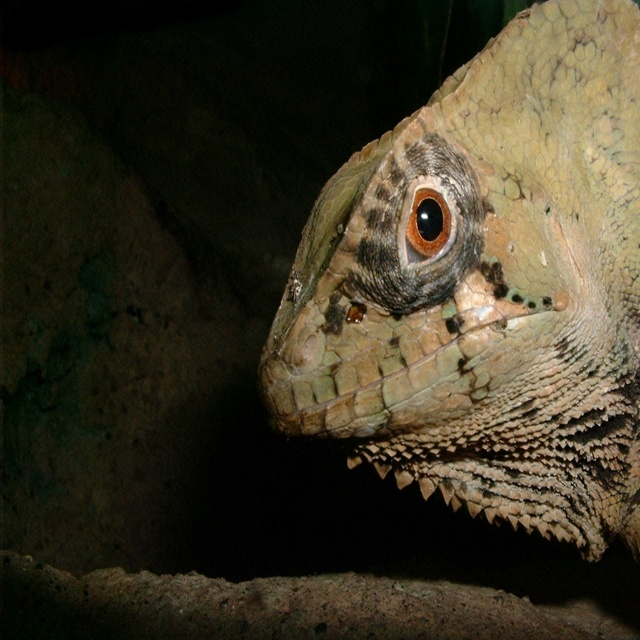Lizard: (247, 52, 640, 620)
